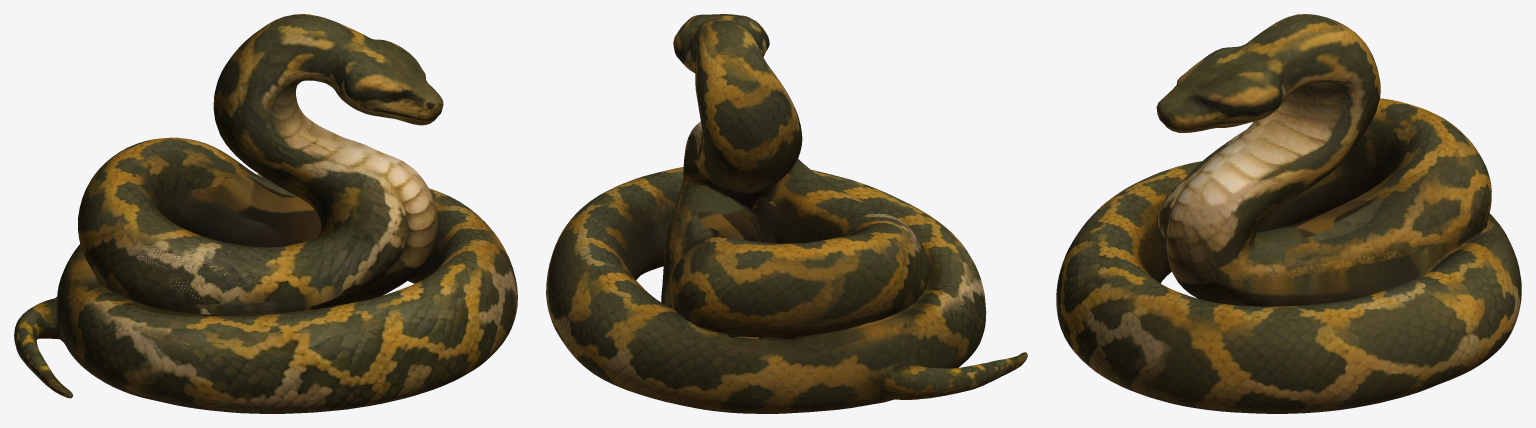
Rendered from paddy_python.glb.
The picture shows the model from 3 angles, left to right: view 1: azimuth 30°, elevation 25°; view 2: azimuth 150°, elevation 25°; view 3: azimuth 270°, elevation 25°; orthographic projection. The views are drawn at different scales.
Parts seen in each view (by area): view 1: temp_mesh.ply; view 2: temp_mesh.ply; view 3: temp_mesh.ply.
Boxes of the visible parts, x1,y1,x2,y2 form: temp_mesh.ply: (14, 14, 517, 413); temp_mesh.ply: (546, 14, 1027, 413); temp_mesh.ply: (1056, 14, 1521, 413).
Bounding box in the file's own units: 1.97 × 1.29 × 1.67.
Materials: 1 (1 with a texture image).
